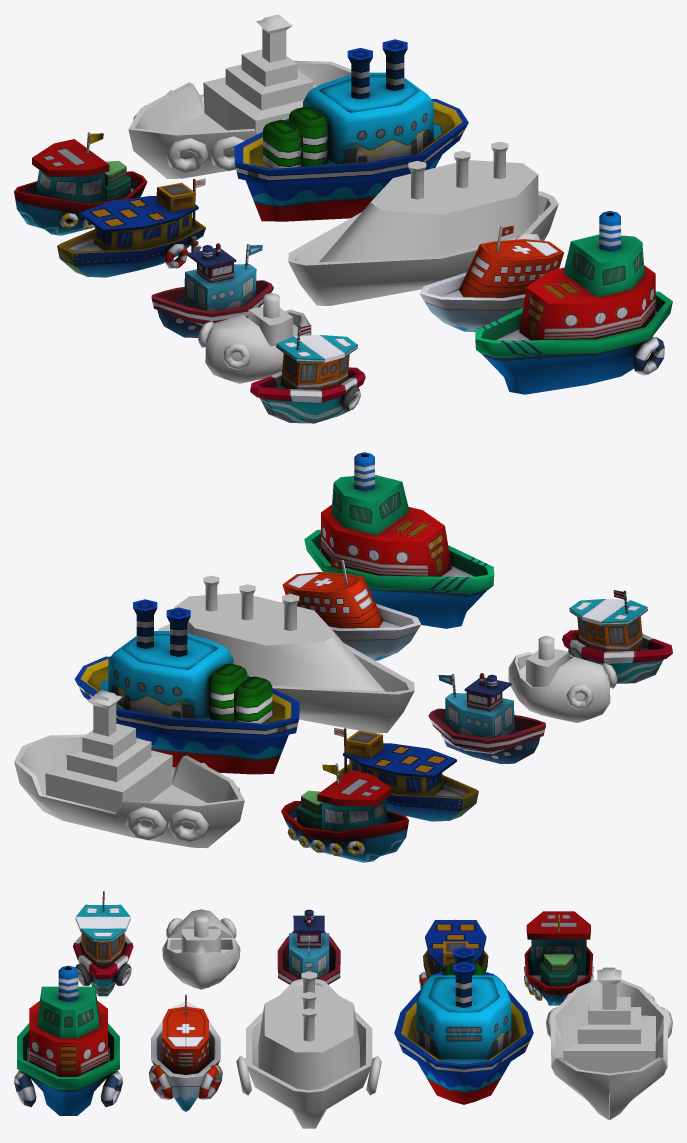
Rendered from cartoon ship.FBX.
The picture shows the model from 3 angles, top to bottom: view 1: azimuth 30°, elevation 25°; view 2: azimuth 150°, elevation 25°; view 3: azimuth 270°, elevation 25°; orthographic projection. The views are drawn at different scales.
Parts seen in each view (by area): view 1: cartoon ship02, cartoon ship08, cartoon ship010, cartoon ship04, cartoon ship05, cartoon ship03, cartoon ship09, cartoon ship01, cartoon ship06, cartoon ship07; view 2: cartoon ship02, cartoon ship04, cartoon ship08, cartoon ship010, cartoon ship09, cartoon ship05, cartoon ship03, cartoon ship06, cartoon ship07, cartoon ship01; view 3: cartoon ship08, cartoon ship02, cartoon ship04, cartoon ship010, cartoon ship03, cartoon ship09, cartoon ship07, cartoon ship01, cartoon ship06, cartoon ship05.
Part boxes in pixels (left/top/right/bottom): cartoon ship02: left=234, top=39, right=468, bottom=221; cartoon ship08: left=288, top=141, right=558, bottom=305; cartoon ship010: left=475, top=211, right=672, bottom=394; cartoon ship04: left=128, top=14, right=351, bottom=178; cartoon ship05: left=57, top=178, right=205, bottom=277; cartoon ship03: left=419, top=225, right=563, bottom=331; cartoon ship09: left=14, top=132, right=147, bottom=235; cartoon ship01: left=250, top=325, right=365, bottom=423; cartoon ship06: left=151, top=243, right=273, bottom=337; cartoon ship07: left=198, top=293, right=311, bottom=383; cartoon ship02: left=74, top=599, right=299, bottom=774; cartoon ship04: left=14, top=690, right=244, bottom=848; cartoon ship08: left=158, top=575, right=414, bottom=733; cartoon ship010: left=304, top=452, right=494, bottom=628; cartoon ship09: left=281, top=763, right=408, bottom=862; cartoon ship05: left=334, top=727, right=478, bottom=821; cartoon ship03: left=281, top=559, right=421, bottom=660; cartoon ship06: left=428, top=673, right=545, bottom=763; cartoon ship07: left=508, top=636, right=617, bottom=722; cartoon ship01: left=562, top=590, right=672, bottom=683; cartoon ship08: left=236, top=971, right=381, bottom=1128; cartoon ship02: left=394, top=947, right=533, bottom=1104; cartoon ship04: left=546, top=967, right=672, bottom=1120; cartoon ship010: left=14, top=965, right=122, bottom=1115; cartoon ship03: left=149, top=994, right=222, bottom=1111; cartoon ship09: left=524, top=911, right=593, bottom=1005; cartoon ship07: left=162, top=909, right=240, bottom=989; cartoon ship01: left=73, top=891, right=133, bottom=996; cartoon ship06: left=277, top=909, right=340, bottom=984; cartoon ship05: left=419, top=919, right=488, bottom=988.
Size of the model in its own units: 752 by 270 by 1148.
